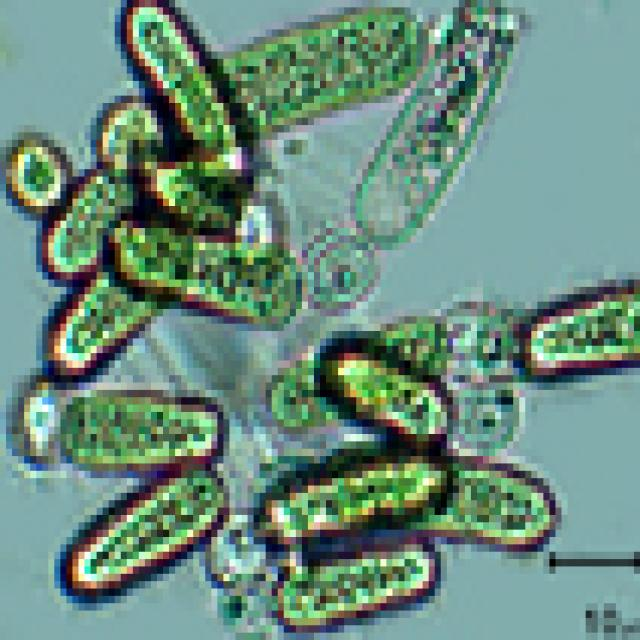Blue Green Algae: (54, 464, 236, 604), (97, 213, 296, 331), (115, 8, 248, 170), (253, 449, 452, 544), (314, 331, 447, 441), (272, 537, 428, 625), (55, 382, 224, 463), (513, 280, 640, 382), (447, 441, 561, 552), (42, 162, 133, 272)
